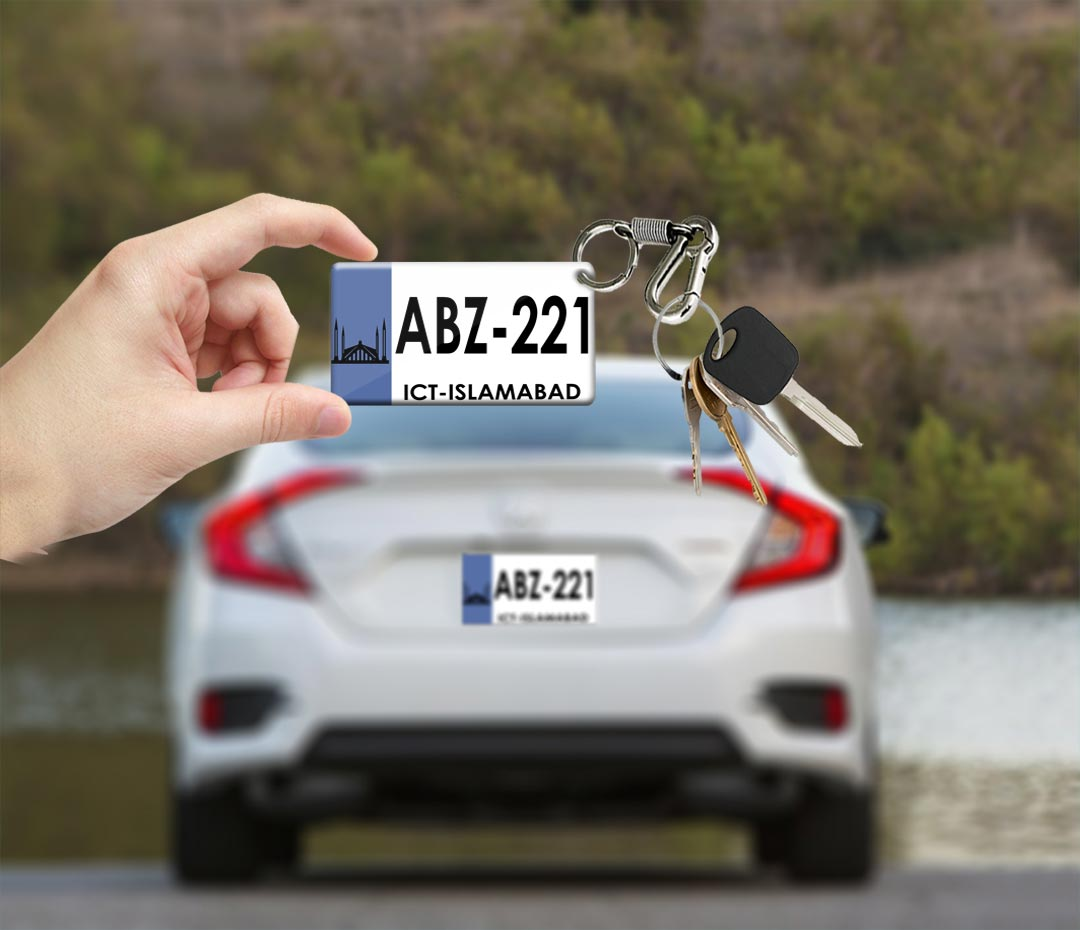plate: (322, 253, 599, 413), (458, 549, 601, 629)
